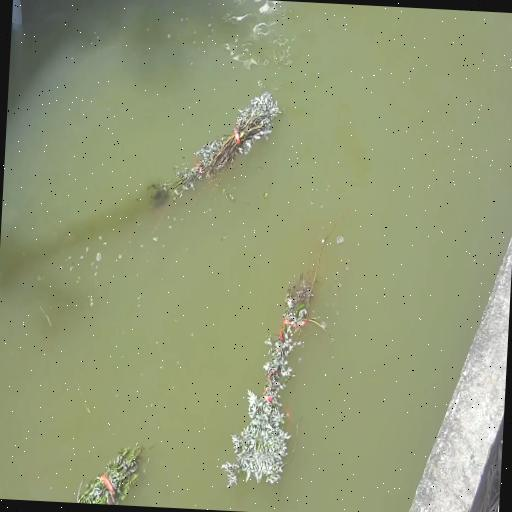twig: (220, 220, 336, 494), (144, 82, 284, 220), (76, 436, 144, 506)
